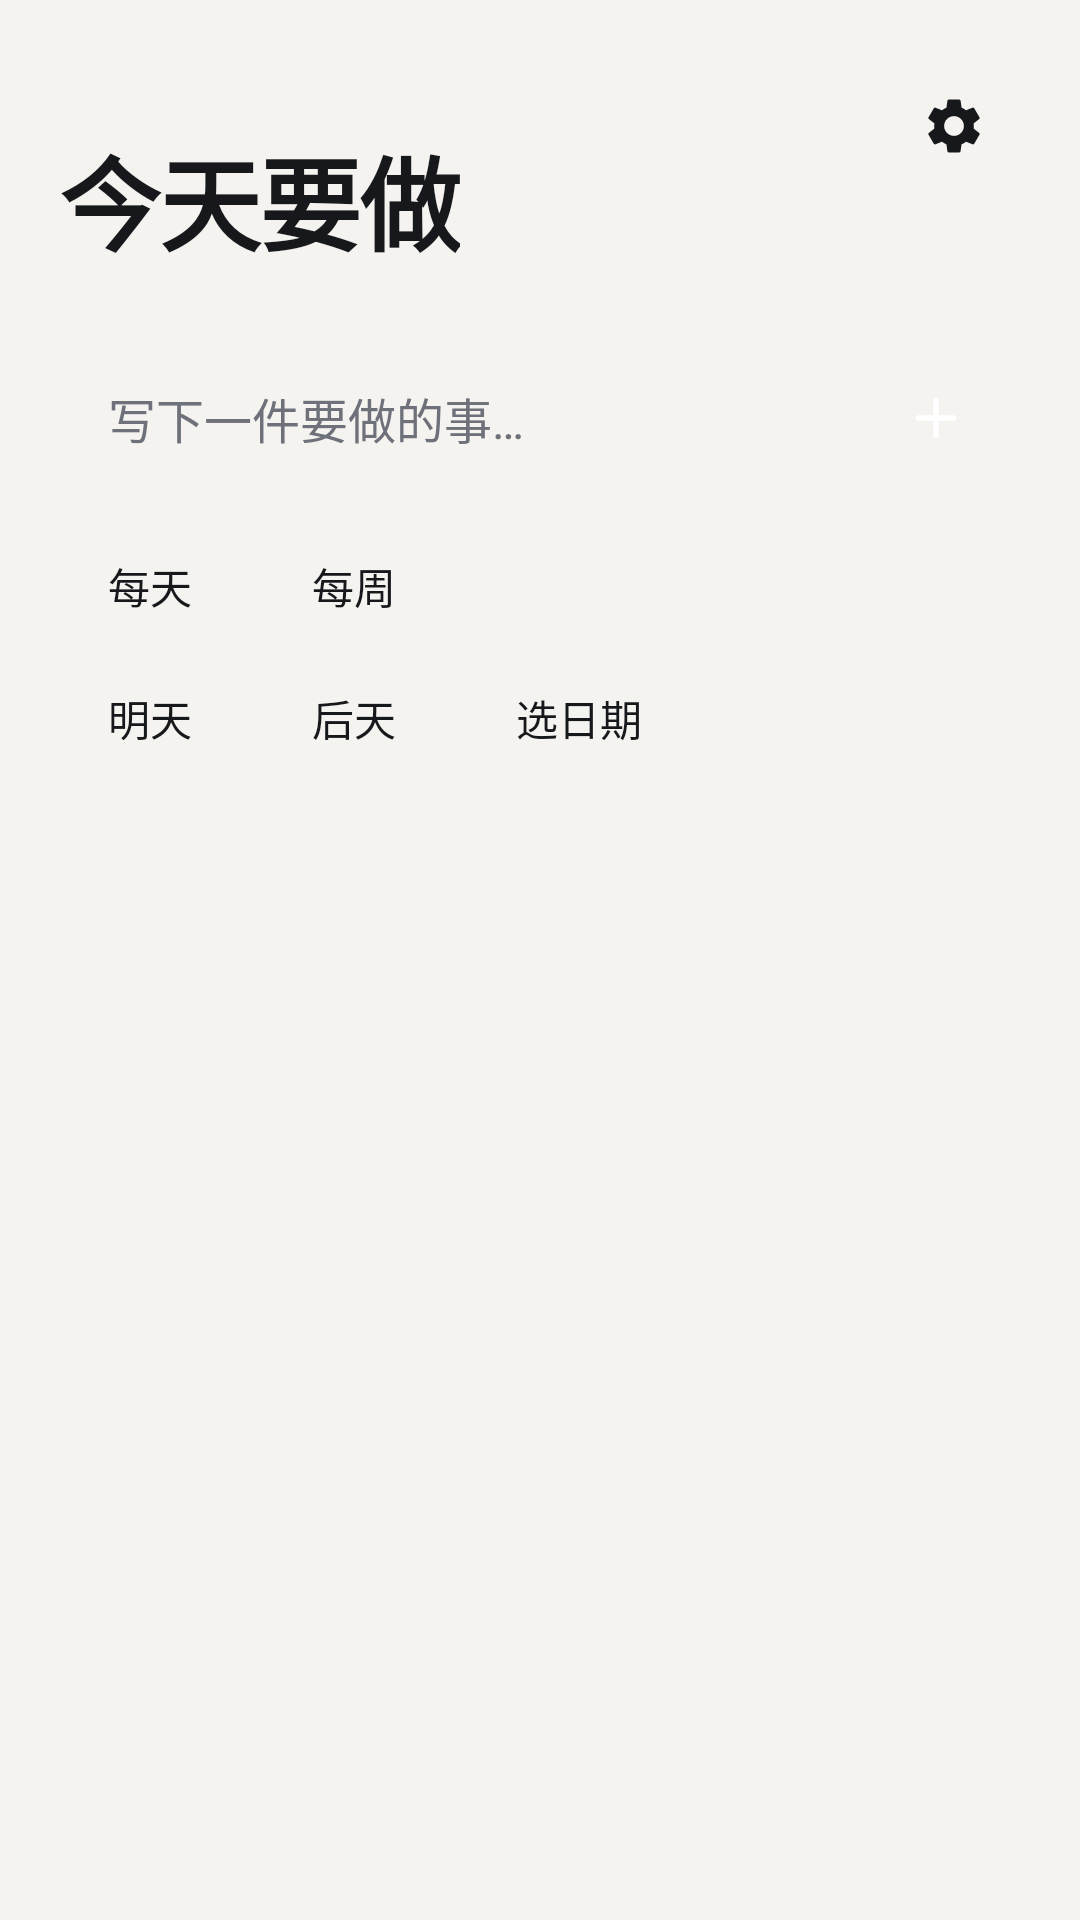

Screen size 1080 × 1920. Icon name, then its center in pixels as (x=x, y=y):
设置: (x=954, y=126)
